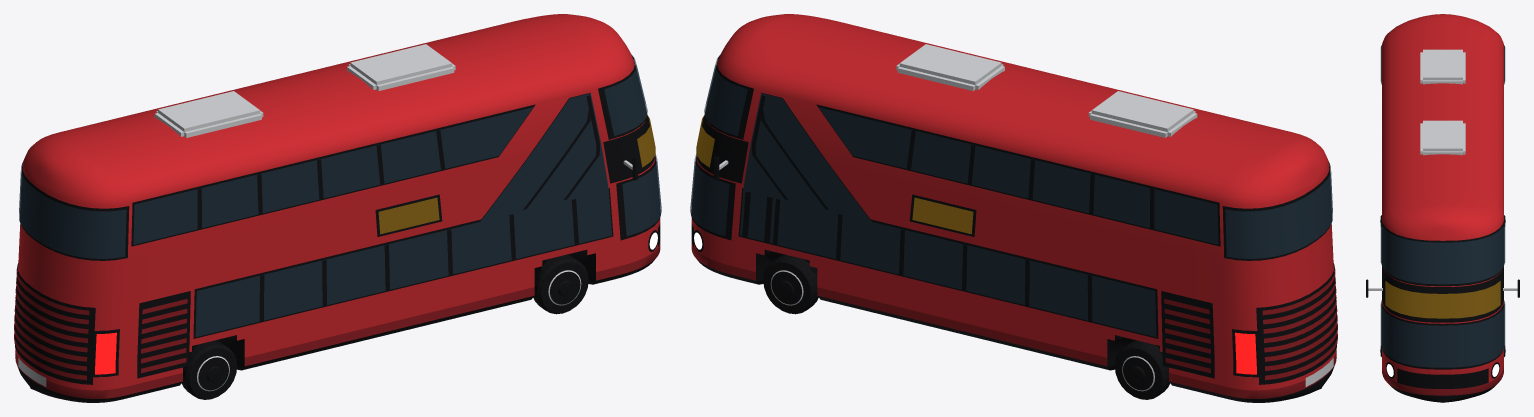
File: double-decker-bus.glb
3 renders of one model, left to right at view 1: azimuth 30°, elevation 25°; view 2: azimuth 150°, elevation 25°; view 3: azimuth 270°, elevation 25°, orthographic. The views are drawn at different scales.
Visible parts, largest first — view 1: Body, Glass, FR, RR, Display, Lights; view 2: Body, Glass, FL, RL, Display, Lights; view 3: Body, Glass, Display, Lights.
Part boxes in pixels (bbox=[...]): Body: bbox=[14, 14, 660, 402]; Glass: bbox=[19, 54, 661, 336]; FR: bbox=[533, 255, 588, 314]; RR: bbox=[182, 340, 237, 399]; Display: bbox=[378, 115, 655, 234]; Lights: bbox=[95, 232, 657, 374]; Body: bbox=[691, 14, 1337, 402]; Glass: bbox=[690, 54, 1332, 336]; FL: bbox=[763, 255, 818, 314]; RL: bbox=[1114, 340, 1169, 399]; Display: bbox=[696, 115, 973, 234]; Lights: bbox=[694, 232, 1256, 374]; Body: bbox=[1366, 14, 1519, 402]; Glass: bbox=[1380, 47, 1505, 367]; Display: bbox=[1385, 281, 1500, 318]; Lights: bbox=[1386, 364, 1499, 376].
Size of the model in its own units: 11.24 by 4.4 by 3.21.
